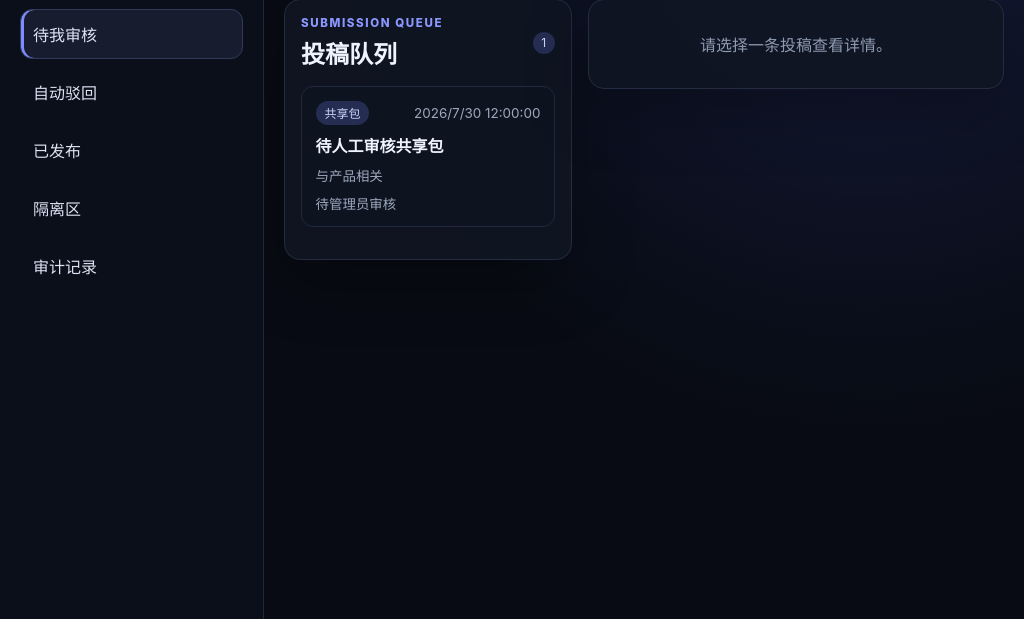
管理员审核工作台 › 人工审核共享包缺少技术证据时禁用批准并显示稳定原因
The width and height of the screenshot is (1024, 619).
Click the text "待人工审核共享包" at (380, 146), box top-left (316, 136), bottom-right (444, 156)
(page scrolled)
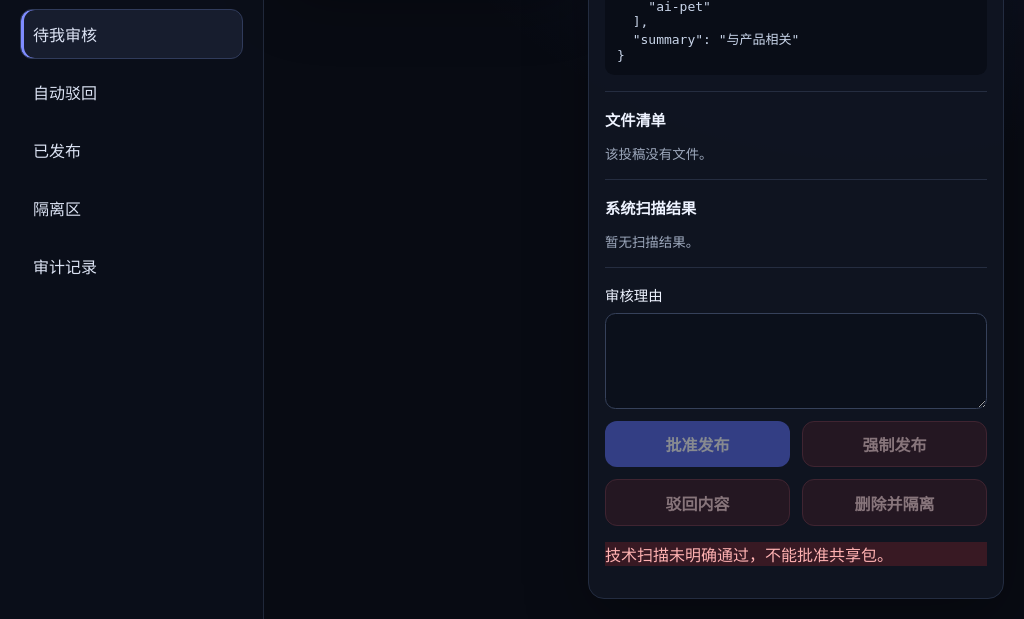
Type "尝试批准" into the text box labelled "审核理由" at (796, 361), box top-left (605, 313), bottom-right (987, 409)
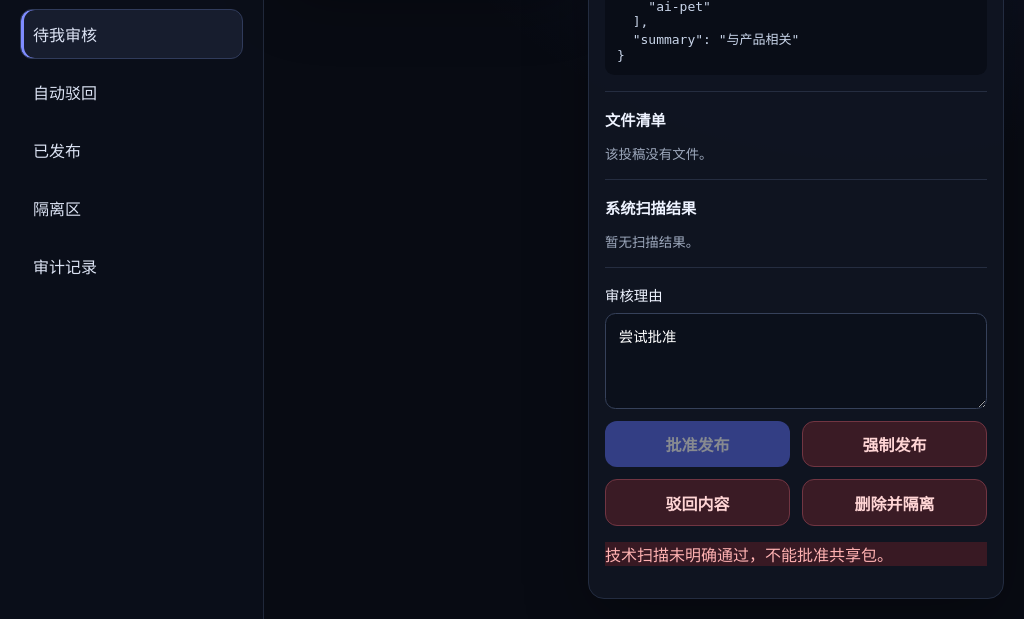
Expected: the button "批准发布" is disabled, top-left (605, 421), bottom-right (790, 467)
Expected: the text "技术扫描未明确通过，不能批准共享包。" is shown, top-left (605, 542), bottom-right (987, 566)
Expected: the button "强制发布" is enabled, top-left (802, 421), bottom-right (987, 467)
